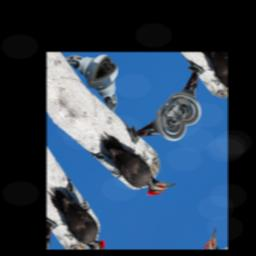Woodpecker: (86, 115, 179, 216)
